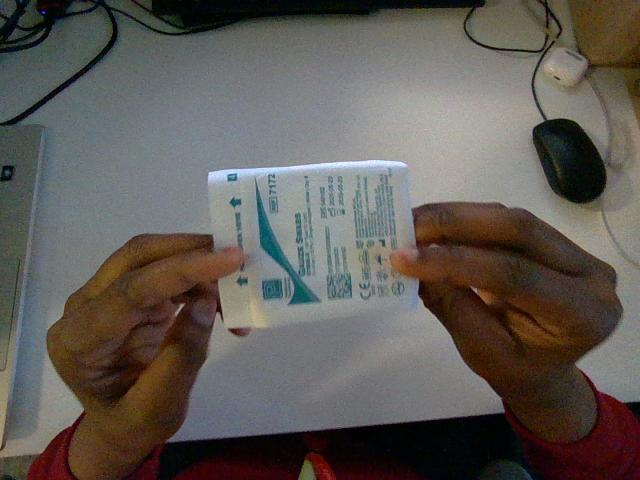gauze: (208, 160, 417, 327)
